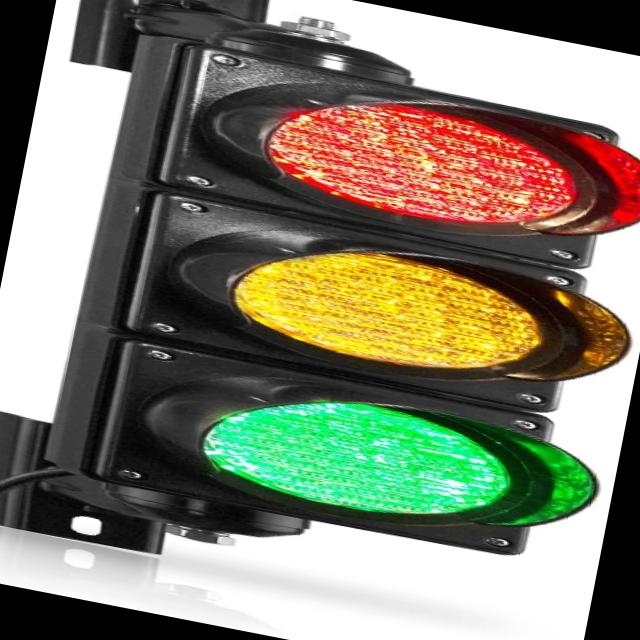green-lights: (192, 370, 540, 542)
red-lights: (252, 82, 590, 244)
yellow-lights: (224, 224, 555, 390)
